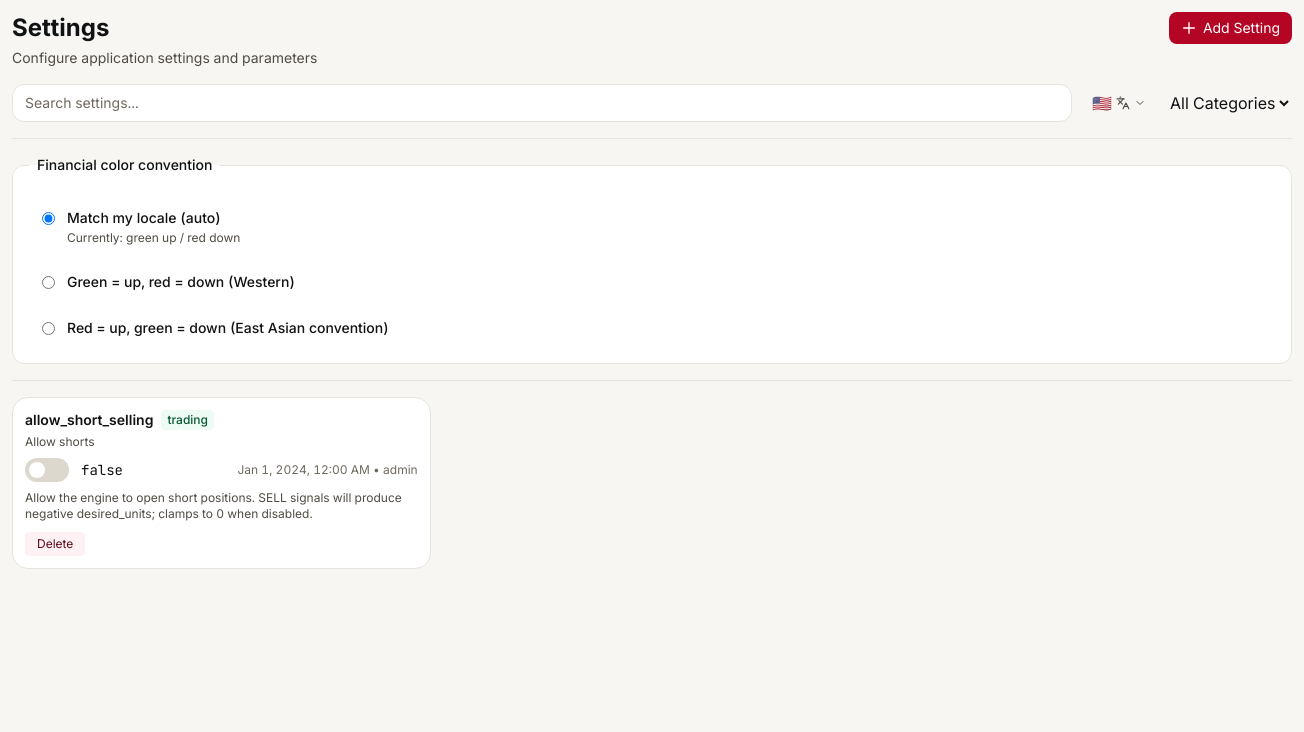
it: Settings › shows "Deleting..." text on the confirm button while delete is in flight
Expected: the heading "allow_short_selling" is shown, [25,410,153,430]
Click the button with test id "setting-delete-allow_short_selling" at [55, 544], box [25,532,85,556]
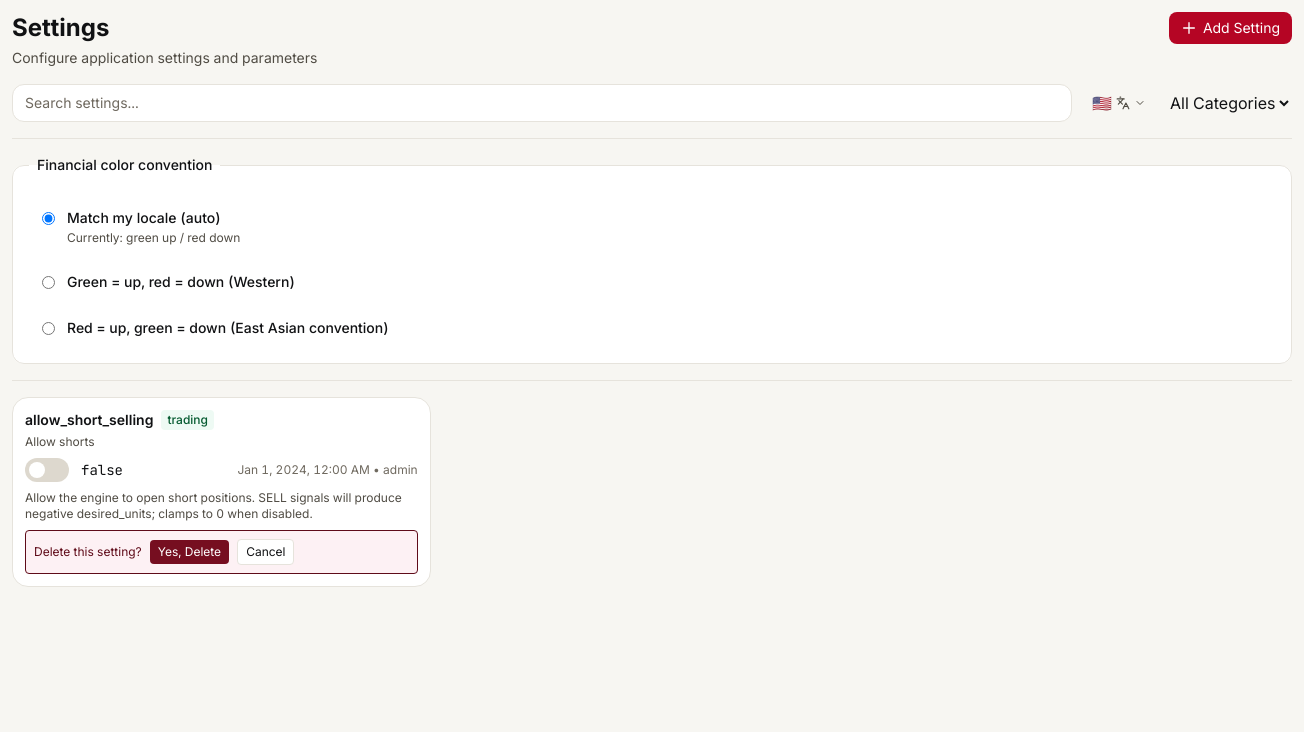
Click the button "Yes, Delete" at [190, 552], box [150,540,229,564]
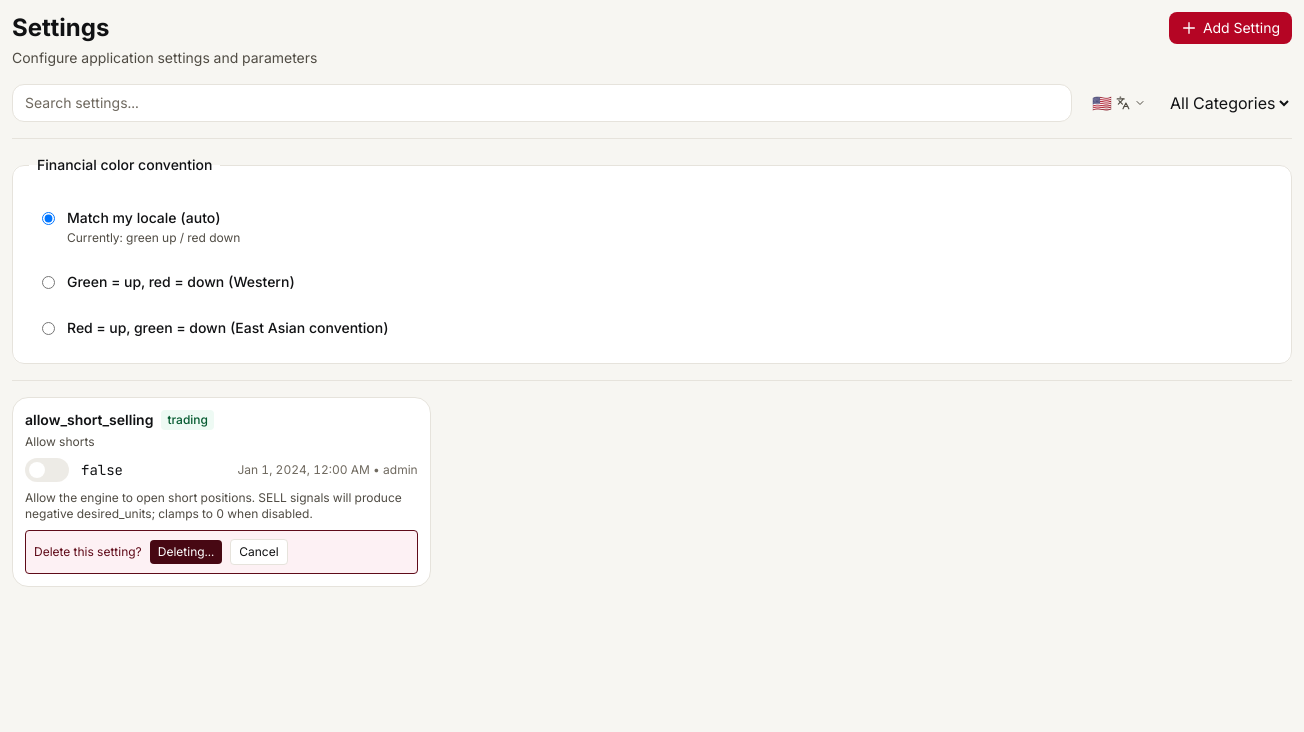
Expected: the button "Deleting..." is shown, [150,540,222,564]
